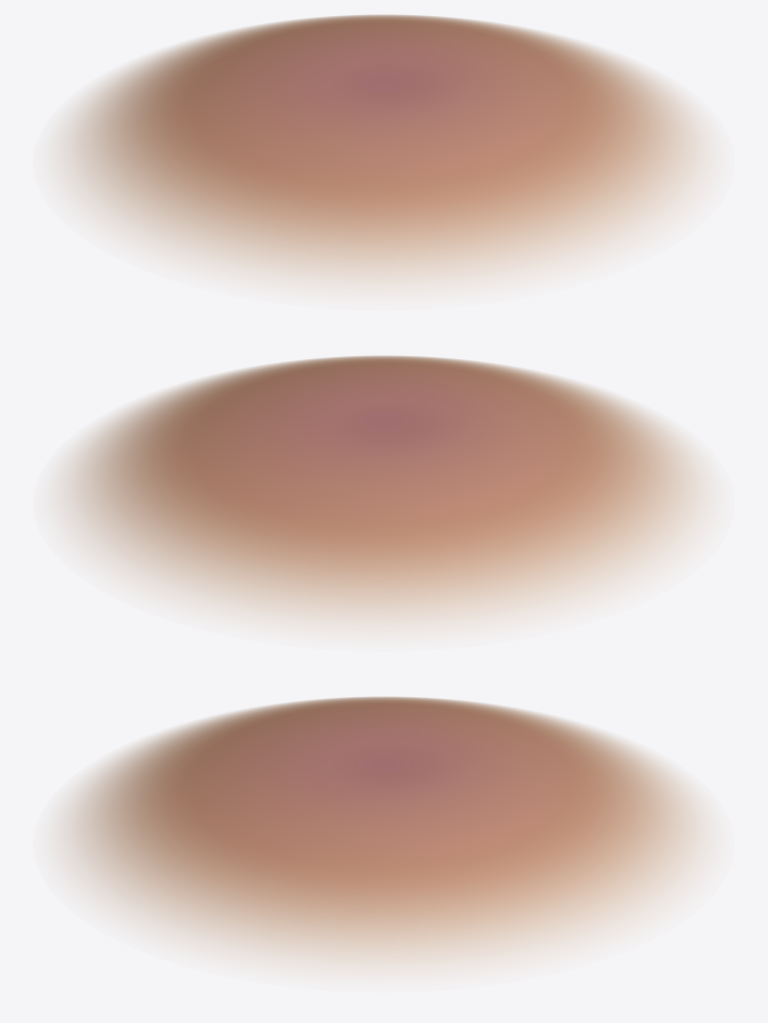
Rendered from piso_bordes_abajo.glb.
3 views of the same model, one above another, from view 1: azimuth 30°, elevation 25°; view 2: azimuth 150°, elevation 25°; view 3: azimuth 270°, elevation 25° (orthographic).
Parts seen in each view (by area): view 1: piso_curvo; view 2: piso_curvo; view 3: piso_curvo.
Part boxes in pixels (x1=…): piso_curvo: x1=59, y1=14, x2=708, y2=288; piso_curvo: x1=59, y1=355, x2=708, y2=629; piso_curvo: x1=59, y1=696, x2=708, y2=970.
Bounding box in the file's own units: 120 × 16 × 120.
